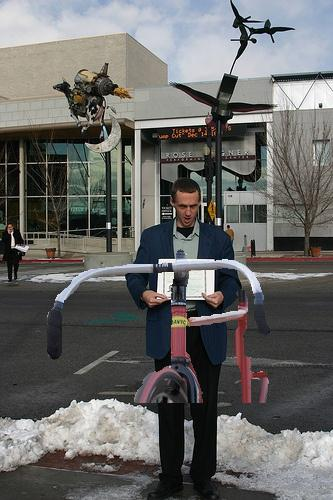tampered: (48, 250, 270, 403)
